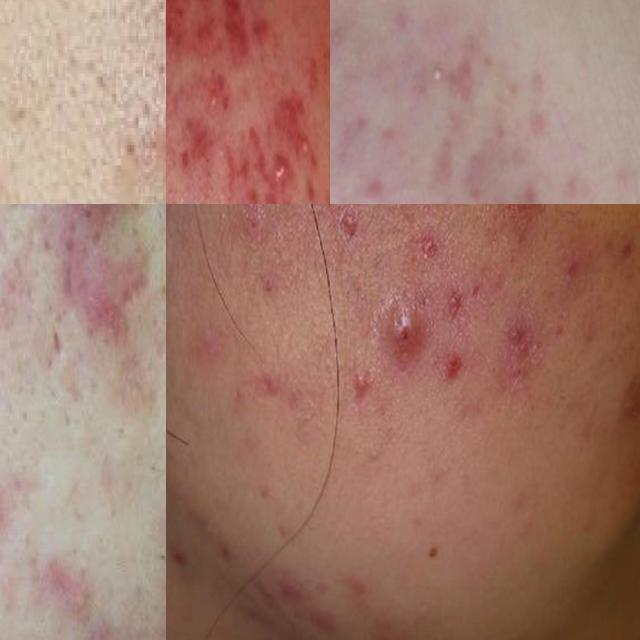acne_scars: (618, 292, 640, 439), (250, 358, 290, 411)
comedone: (343, 426, 409, 496), (453, 193, 474, 204)
cystic: (373, 286, 431, 384)
folliculitis: (300, 119, 314, 160)
keloid: (44, 240, 153, 360), (14, 204, 57, 230), (0, 210, 8, 267)
milium: (196, 36, 214, 70)
papule: (368, 168, 389, 204)
pustule: (145, 100, 166, 172), (351, 365, 376, 408), (422, 54, 449, 91), (204, 74, 226, 116)
sebo-crystan-conglo: (270, 152, 290, 194)
